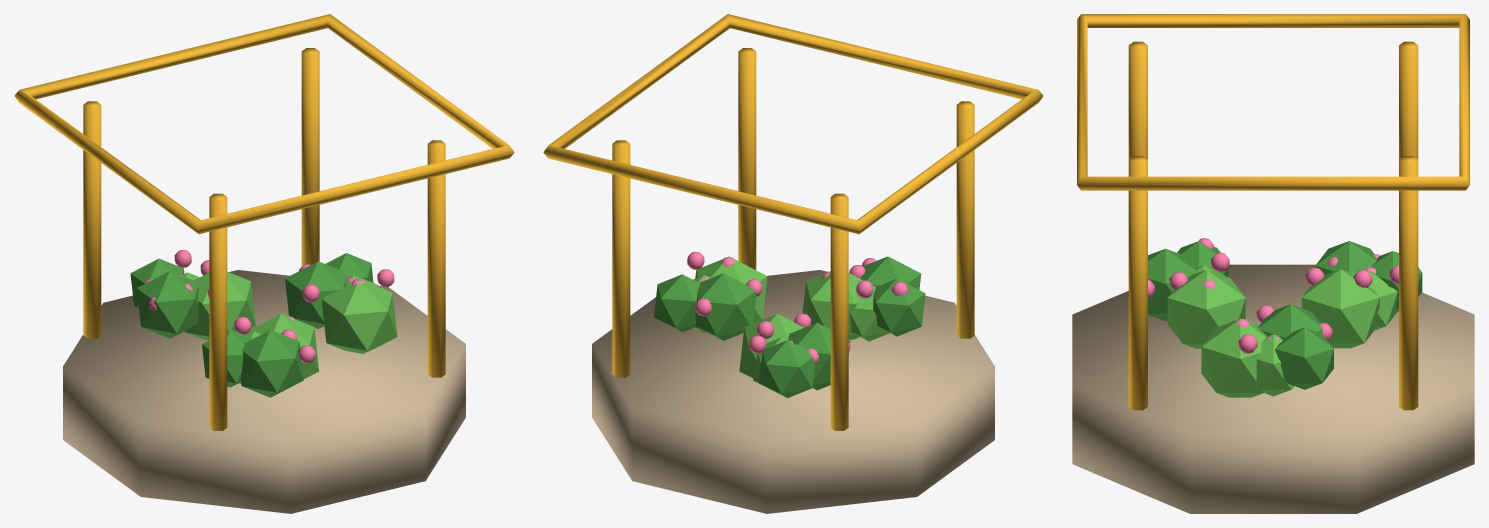
Rendered from sera_1.glb.
3 renders of one model, left to right at view 1: azimuth 30°, elevation 25°; view 2: azimuth 150°, elevation 25°; view 3: azimuth 270°, elevation 25°, orthographic. The views are drawn at different scales.
Visible parts, largest first — view 1: Sera.001; view 2: Sera.001; view 3: Sera.001.
Part boxes in pixels (x1,y1,x2,y2): Sera.001: [14, 14, 514, 513]; Sera.001: [543, 14, 1043, 513]; Sera.001: [1072, 14, 1474, 513].
Size of the model in its own units: 1.47 by 1.35 by 1.47.
